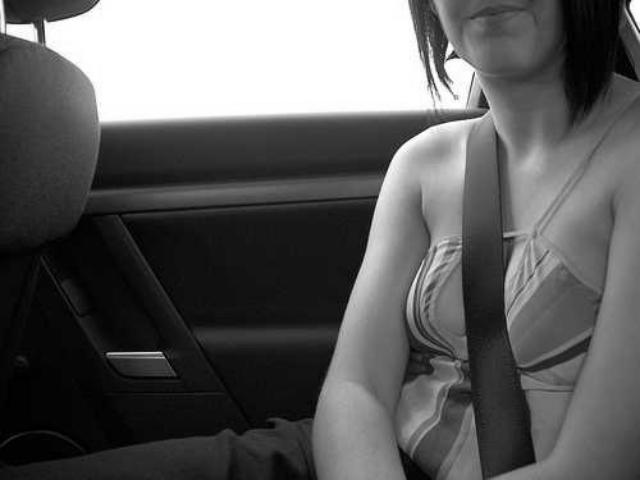Seatbelt: (454, 104, 546, 480)
